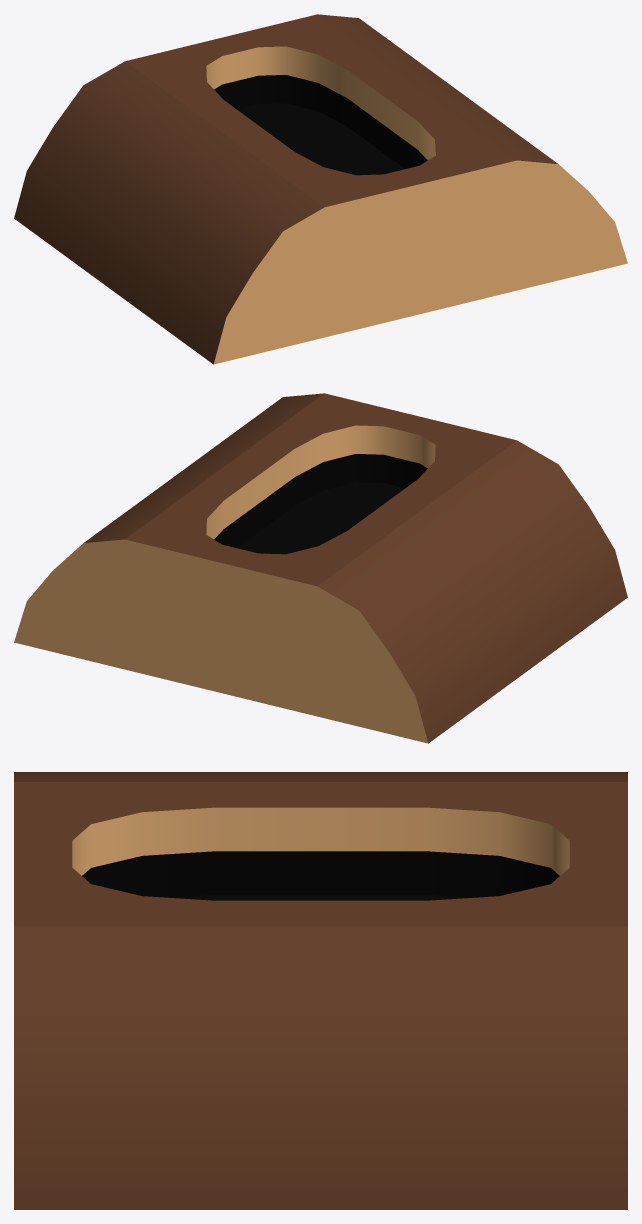
The model's file is LeverBox.fbx.
The picture shows the model from 3 angles, top to bottom: view 1: azimuth 30°, elevation 25°; view 2: azimuth 150°, elevation 25°; view 3: azimuth 270°, elevation 25°; orthographic projection. The views are drawn at different scales.
Parts seen in each view (by area): view 1: LeverBox; view 2: LeverBox; view 3: LeverBox.
Boxes of the visible parts, x1,y1,x2,y2 form: LeverBox: [14, 14, 627, 364]; LeverBox: [14, 393, 627, 743]; LeverBox: [14, 772, 627, 1209].
Size of the model in its own units: 79.6 by 23.89 by 66.41.
